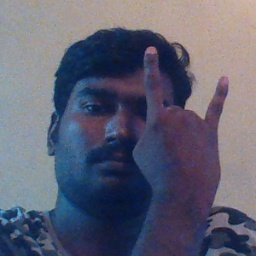V: (128, 43, 237, 193)
